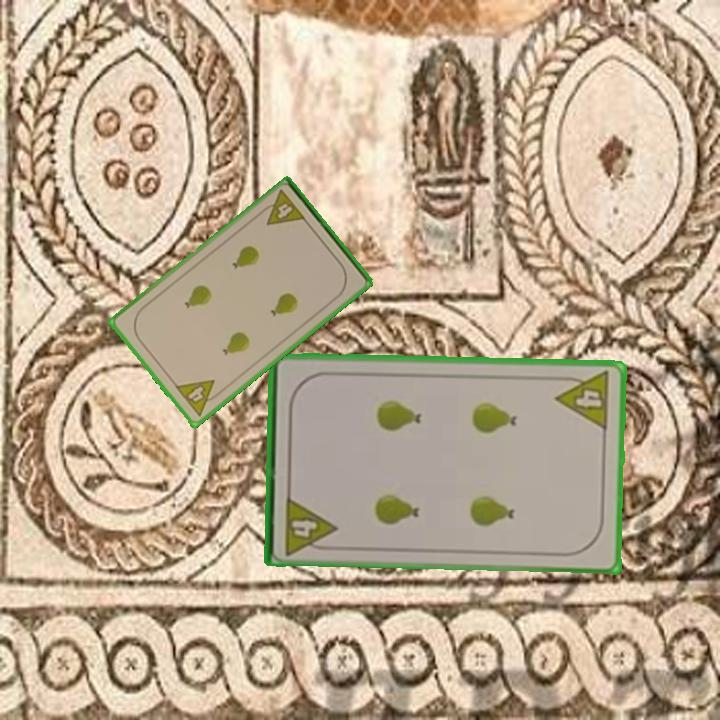4p: (553, 368, 613, 433), (281, 493, 339, 558), (171, 376, 226, 419), (256, 186, 309, 229)
